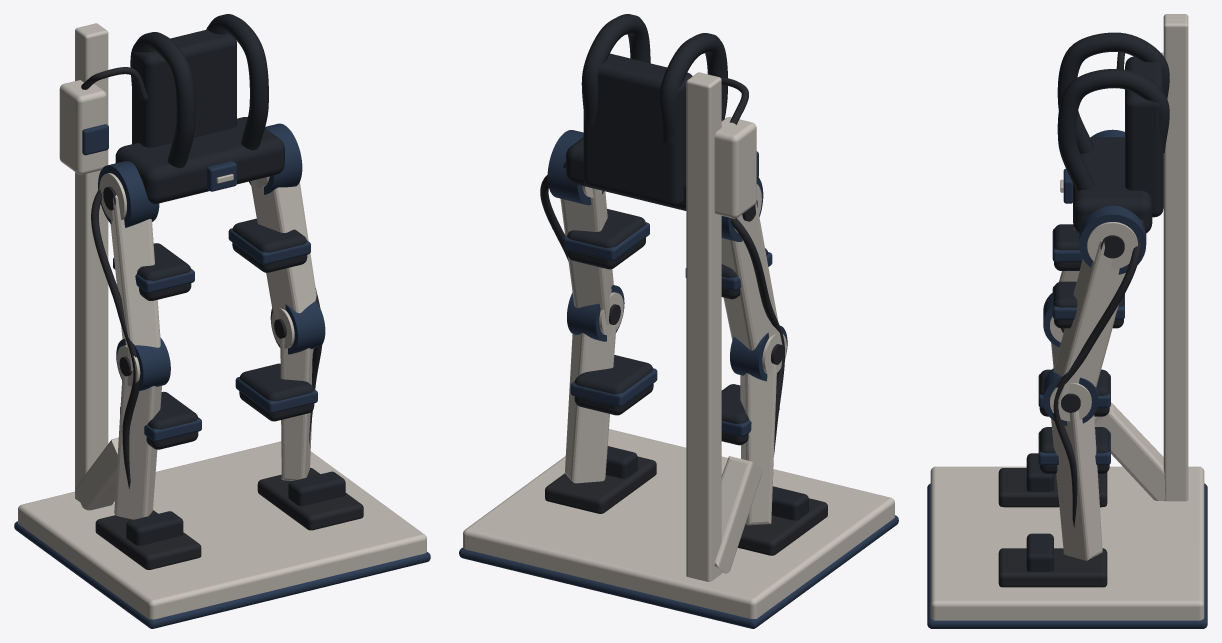
File: robots-38.glb
3 renders of one model, left to right at view 1: azimuth 30°, elevation 25°; view 2: azimuth 150°, elevation 25°; view 3: azimuth 270°, elevation 25°, orthographic. The views are drawn at different scales.
Parts seen in each view (by area): view 1: platform, harness, stand, cuffs, thighs, footplates, shins, belt, hips, pack, knees, wiring (+1 smaller); view 2: platform, stand, harness, cuffs, shins, thighs, footplates, pack, knees, wiring, hips, belt; view 3: platform, stand, harness, footplates, shins, thighs, cuffs, belt, hips, knees, wiring.
Boxes of the visible parts, box(x1,y1,x2,y2) form: platform: box(14, 441, 430, 628); harness: box(130, 14, 268, 168); stand: box(75, 23, 118, 510); cuffs: box(113, 218, 317, 449); thighs: box(110, 179, 316, 371); footplates: box(95, 467, 363, 569); shins: box(114, 337, 313, 519); belt: box(115, 117, 284, 203); hips: box(98, 123, 302, 227); pack: box(59, 80, 108, 174); knees: box(116, 301, 325, 391); wiring: box(81, 67, 322, 488); platform: box(459, 429, 898, 628); stand: box(686, 72, 761, 581); harness: box(581, 14, 727, 207); cuffs: box(563, 209, 779, 445); shins: box(565, 324, 777, 525); thighs: box(560, 188, 782, 350); footplates: box(545, 446, 827, 555); pack: box(714, 117, 758, 218); knees: box(567, 285, 787, 381); wiring: box(540, 77, 784, 453); hips: box(547, 130, 763, 241); belt: box(566, 137, 686, 210); platform: box(927, 466, 1207, 628); stand: box(1094, 14, 1188, 501); harness: box(1057, 32, 1169, 217); footplates: box(998, 453, 1107, 587); shins: box(1051, 342, 1102, 560); thighs: box(1053, 227, 1125, 404); cuffs: box(1038, 224, 1124, 473); belt: box(1073, 137, 1152, 233); hips: box(1079, 129, 1146, 274); knees: box(1043, 293, 1098, 425); wiring: box(1052, 52, 1143, 527).
Bounding box in the file's own units: 1.46 × 2.49 × 1.24.
